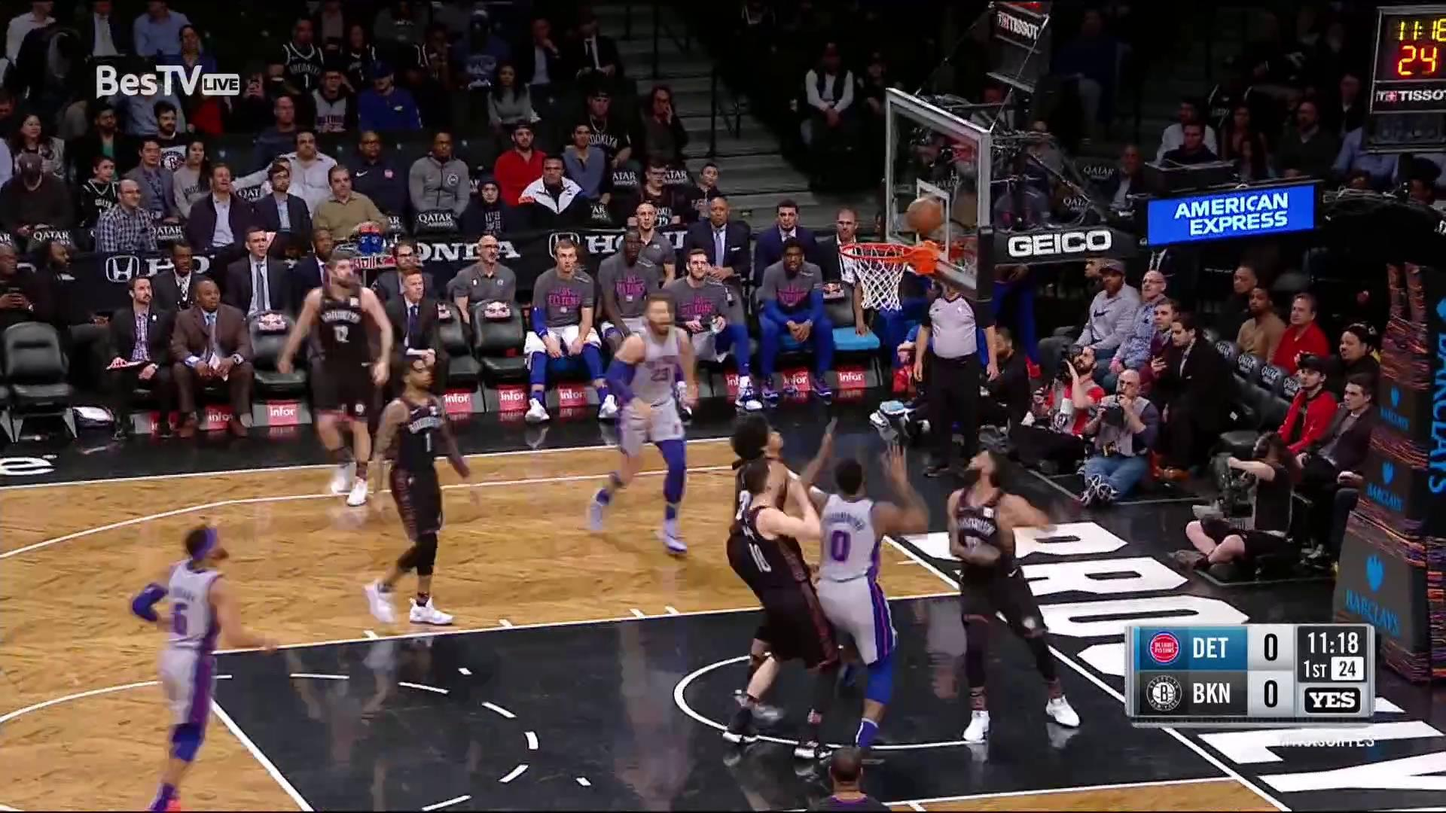basketball: (908, 196, 945, 233)
